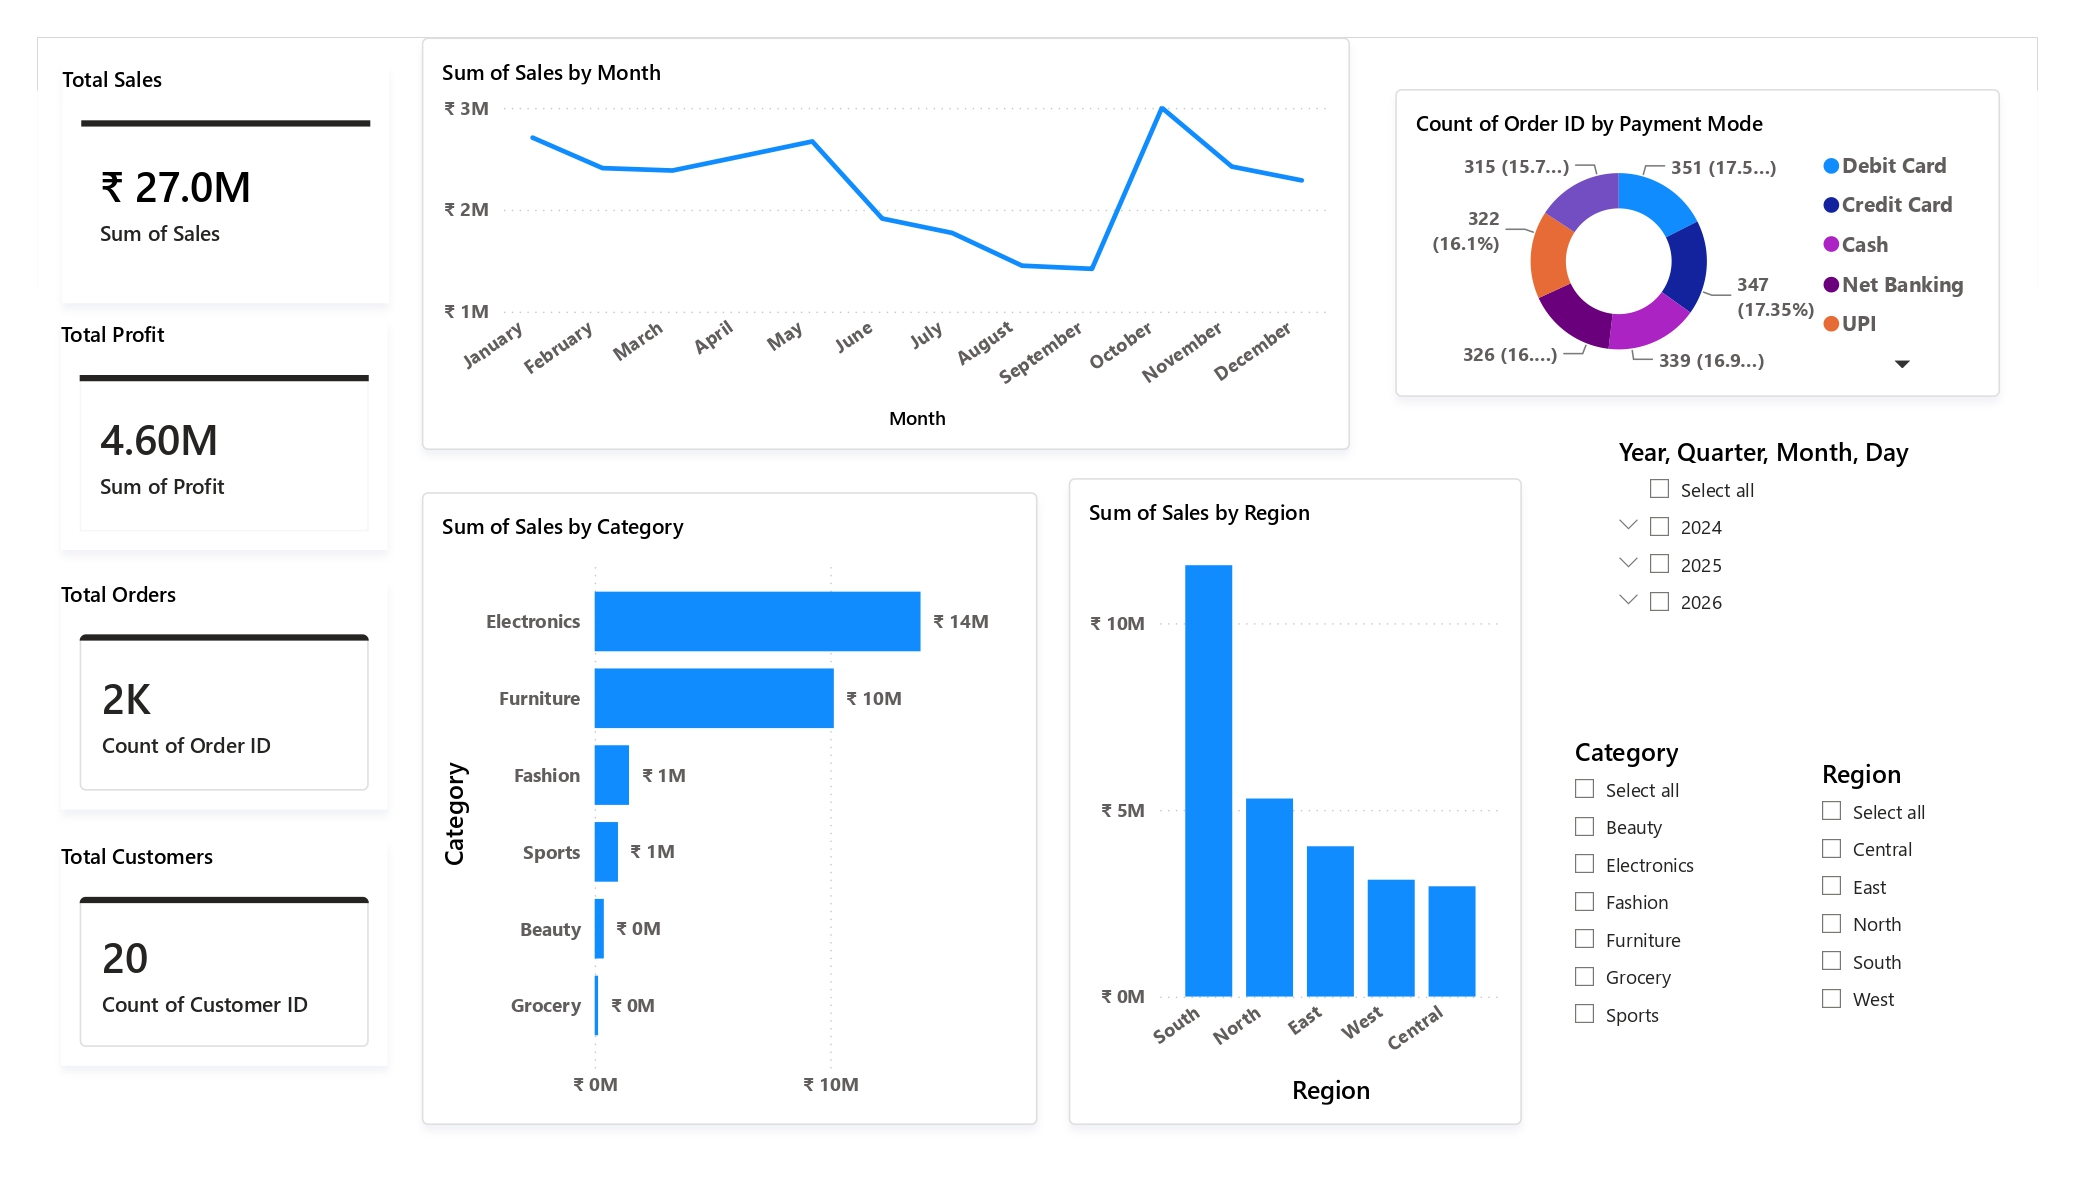

What the dashboard file says about the page in this screenshot:
{"tool":"powerbi","page":{"name":"Executive Dashboard","canvas":[1280,720],"ordinal":0},"visuals":[{"type":"cardVisual","title":"Total Sales","fields":{"Data":["Sum(Orders.Sales)"]},"box":[15.9,18.3,209.1,151.6],"z":1000},{"type":"cardVisual","title":"Total Profit","fields":{"Data":["Sum(Orders.Profit)"]},"box":[14.7,181,209.1,146.7],"z":2000},{"type":"cardVisual","title":"Total Orders","fields":{"Data":["CountNonNull(Orders.Order ID)"]},"box":[14.7,347.3,209.1,146.7],"z":3000},{"type":"cardVisual","title":"Total Customers","fields":{"Data":["Count(Orders.Customer ID)"]},"box":[14.7,514.8,209.1,143.1],"z":4000},{"type":"lineChart","fields":{"Y":["Sum(Orders.Sales)"],"Category":["Orders.Order Date.Variation.Date Hierarchy.Year","Orders.Order Date.Variation.Date Hierarchy.Quarter","Orders.Order Date.Variation.Date Hierarchy.Month","Orders.Order Date.Variation.Date Hierarchy.Day"]},"box":[245.8,0,594.3,264.1],"z":5000},{"type":"clusteredBarChart","fields":{"Category":["Products.Category"],"Y":["Sum(Orders.Sales)"]},"box":[245.8,291,393.8,404.8],"z":6000},{"type":"clusteredColumnChart","fields":{"Category":["Regions.Region"],"Y":["Sum(Orders.Sales)"]},"box":[660.3,282.5,289.8,413.3],"z":7000},{"type":"donutChart","fields":{"Category":["PaymentModes.Payment Mode"],"Y":["CountNonNull(Orders.Order ID)"]},"box":[869.4,33,386.4,196.9],"z":8000},{"type":"slicer","fields":{"Values":["Orders.Order Date.Variation.Date Hierarchy.Year","Orders.Order Date.Variation.Date Hierarchy.Quarter","Orders.Order Date.Variation.Date Hierarchy.Month","Orders.Order Date.Variation.Date Hierarchy.Day"]},"box":[1003.9,254.3,220.1,148],"z":9000},{"type":"slicer","fields":{"Values":["Products.Category"]},"box":[975.8,446.3,138.2,211.6],"z":10000},{"type":"slicer","fields":{"Values":["Customers.Region"]},"box":[1133.6,459.8,122.3,184.6],"z":11000}]}

Visuals, with their boxes on the page's 1280x720 design canvas (x1, y1, x2, y2). These are canvas units, not pixel positions in the 2075x1200 screenshot, which may show the page scaled, cropped or inside an application window:
"Total Sales" cardVisual: bbox=(16, 18, 225, 170)
"Total Profit" cardVisual: bbox=(15, 181, 224, 328)
"Total Orders" cardVisual: bbox=(15, 347, 224, 494)
"Total Customers" cardVisual: bbox=(15, 515, 224, 658)
lineChart - Sum(Orders.Sales) x Orders.Order Date.Variation.Date Hierarchy.Year: bbox=(246, 0, 840, 264)
clusteredBarChart - Products.Category x Sum(Orders.Sales): bbox=(246, 291, 640, 696)
clusteredColumnChart - Regions.Region x Sum(Orders.Sales): bbox=(660, 282, 950, 696)
donutChart - PaymentModes.Payment Mode x CountNonNull(Orders.Order ID): bbox=(869, 33, 1256, 230)
slicer - Orders.Order Date.Variation.Date Hierarchy.Year x Orders.Order Date.Variation.Date Hierarchy.Quarter: bbox=(1004, 254, 1224, 402)
slicer - Products.Category: bbox=(976, 446, 1114, 658)
slicer - Customers.Region: bbox=(1134, 460, 1256, 644)
